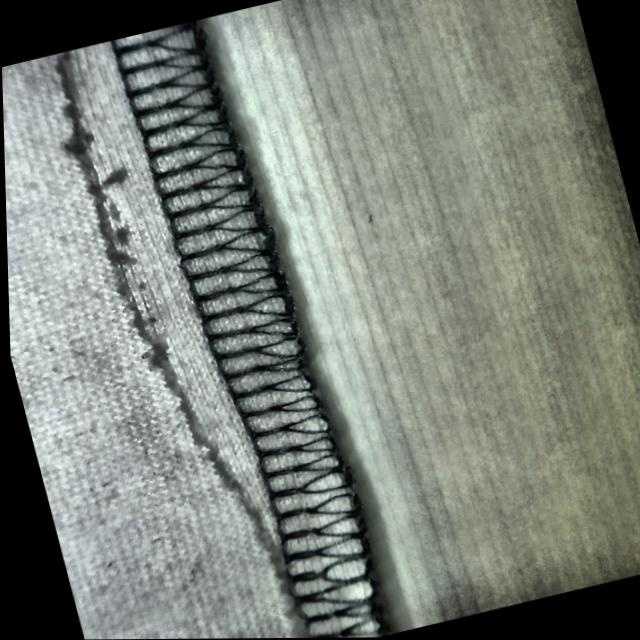seam: (0, 4, 396, 601)
